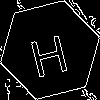H: (25, 25, 71, 79)
